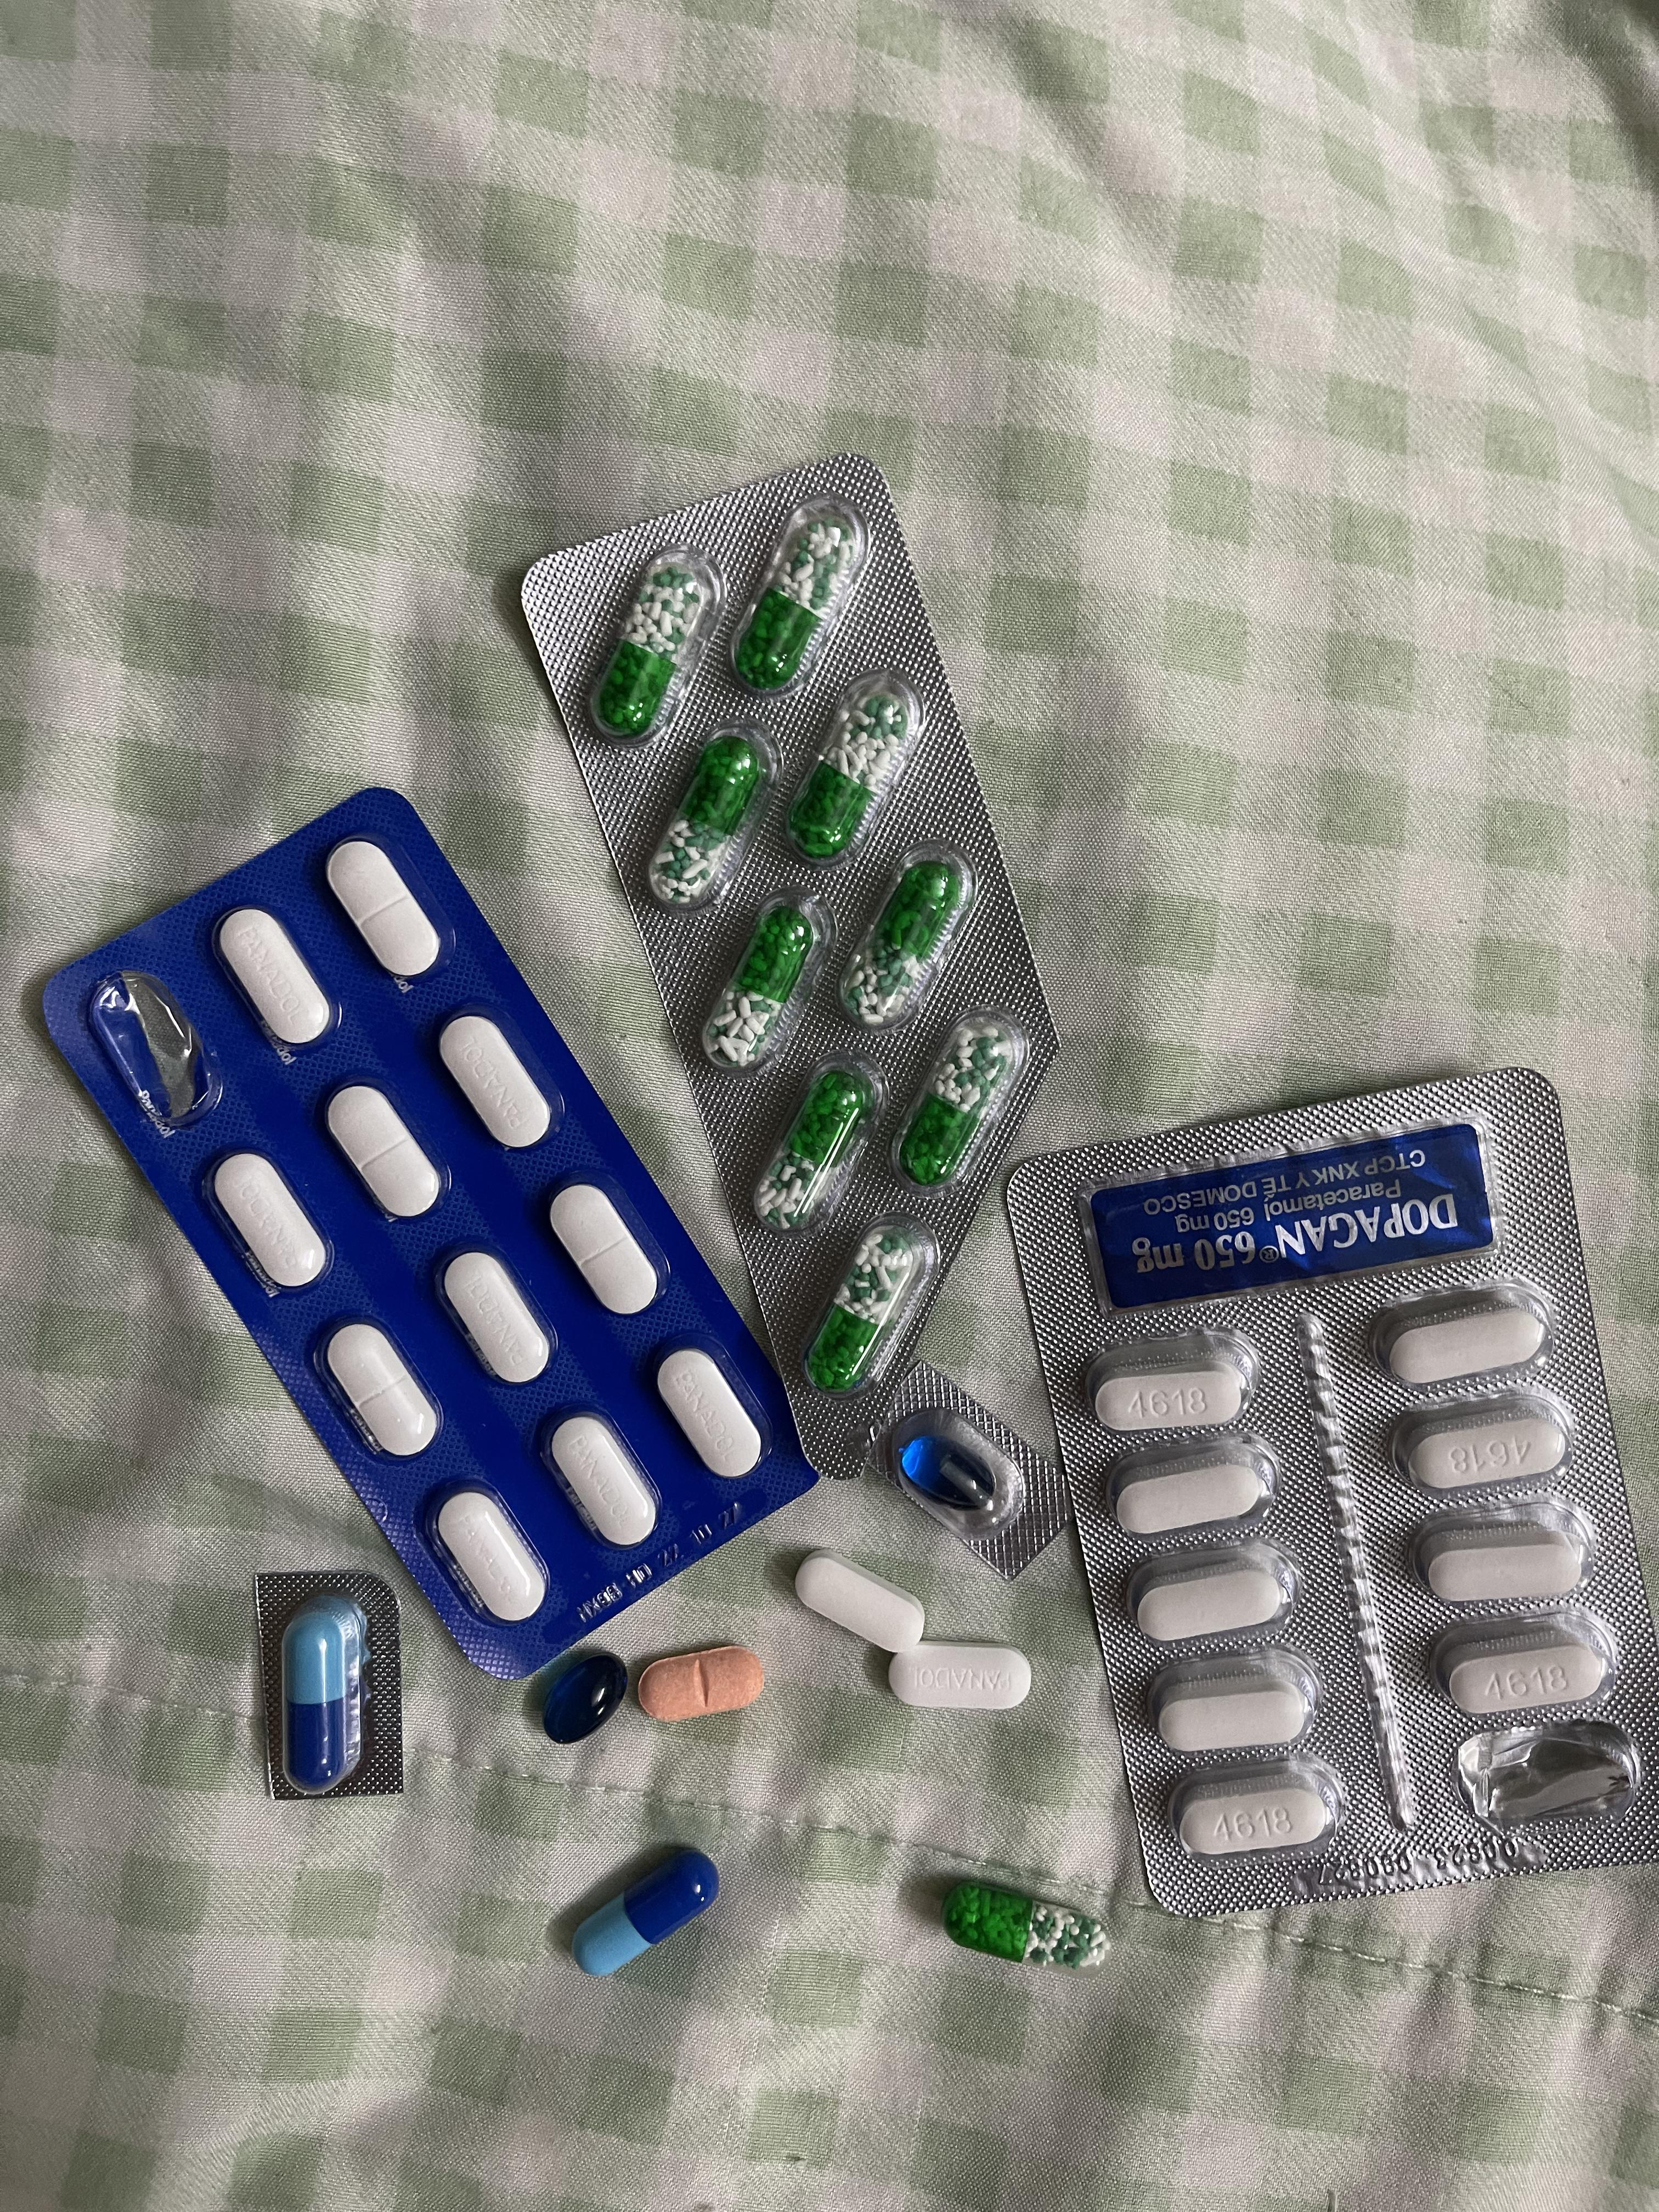Lincomyxin_500mg: (538, 1649, 633, 1747), (903, 1435, 999, 1510)
Loratadine_10mg: (640, 1646, 765, 1723)
Paracetamol_350mg: (214, 907, 336, 1054), (436, 1249, 556, 1388), (540, 1407, 660, 1547), (211, 1153, 328, 1294), (439, 1014, 556, 1153), (324, 1083, 441, 1221), (324, 1322, 439, 1461), (328, 841, 439, 979), (549, 1183, 660, 1317), (657, 1350, 767, 1482), (437, 1489, 549, 1615), (889, 1642, 1030, 1712)
Paracetamol_500mg: (1087, 1324, 1255, 1428), (1380, 1305, 1551, 1388), (1134, 1564, 1293, 1646), (796, 1554, 925, 1653), (1114, 1460, 1267, 1541), (1438, 1641, 1603, 1716), (1408, 1414, 1568, 1491), (1180, 1782, 1333, 1860), (1424, 1536, 1584, 1606), (1155, 1686, 1310, 1752)
Paracetamol_650mg: (781, 674, 922, 874), (641, 725, 782, 913), (884, 1010, 1025, 1191), (835, 850, 976, 1031), (748, 1055, 882, 1230), (737, 517, 857, 691), (598, 563, 708, 735), (805, 1224, 920, 1385), (706, 913, 817, 1075), (943, 1883, 1103, 1977)
pill: (572, 1844, 727, 1979), (282, 1592, 371, 1799)
